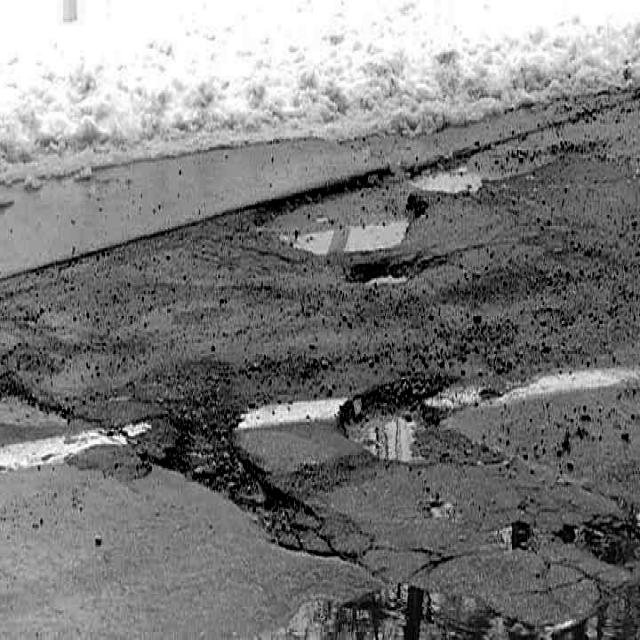pathole: (0, 227, 618, 580), (292, 169, 482, 281)
